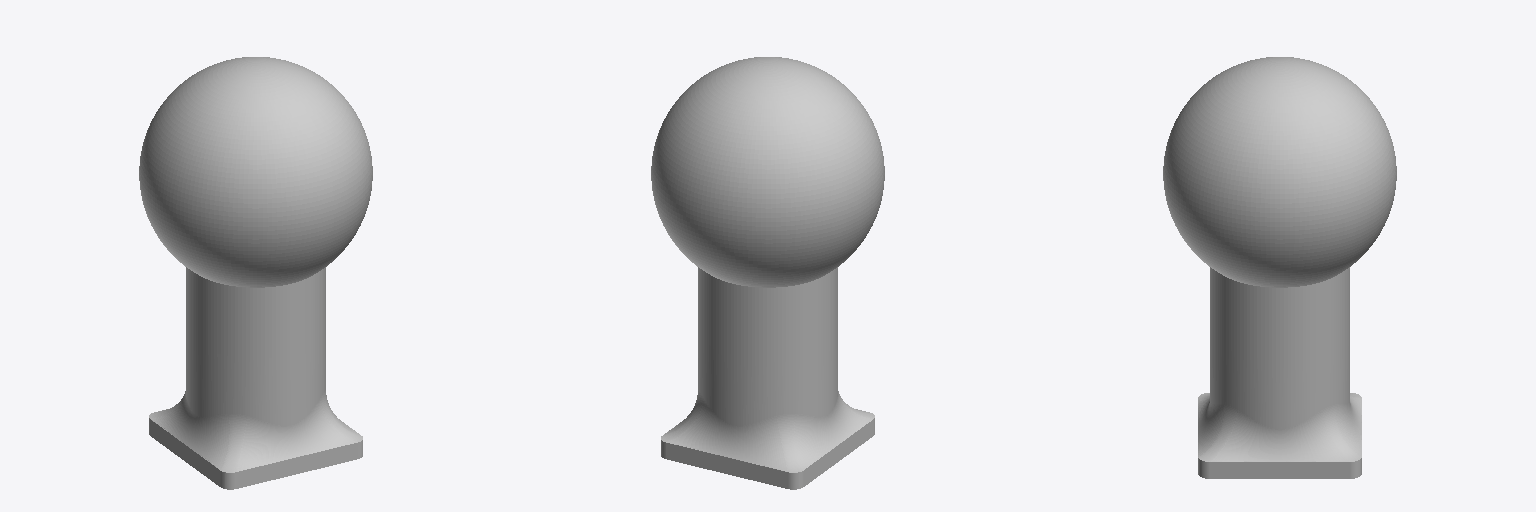
The model's file is V5_Baseplate V5 Press.obj.
3 renders of one model, left to right at view 1: azimuth 30°, elevation 25°; view 2: azimuth 150°, elevation 25°; view 3: azimuth 270°, elevation 25°, orthographic.
Visible parts, largest first — view 1: Solid1:9; view 2: Solid1:9; view 3: Solid1:9.
Part boxes in pixels (x1,y1,x2,y2): Solid1:9: (139, 57, 372, 489); Solid1:9: (651, 57, 884, 489); Solid1:9: (1163, 57, 1396, 478).
Size of the model in its own units: 50 by 89 by 50.